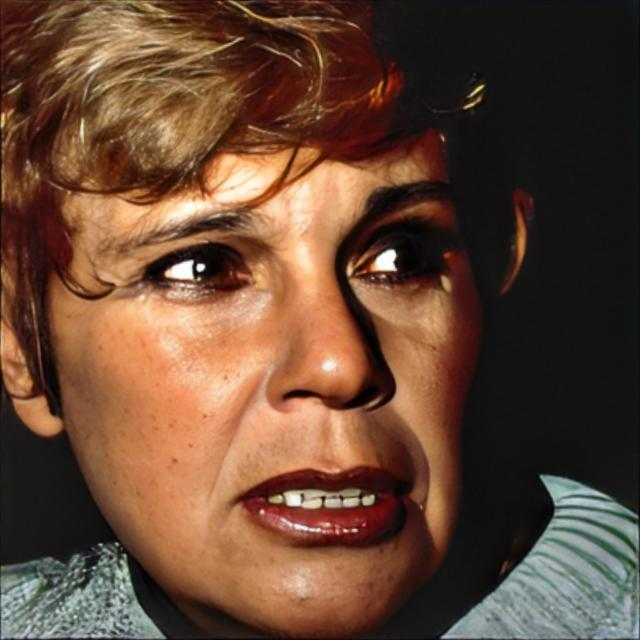disgust: (45, 62, 487, 640)
